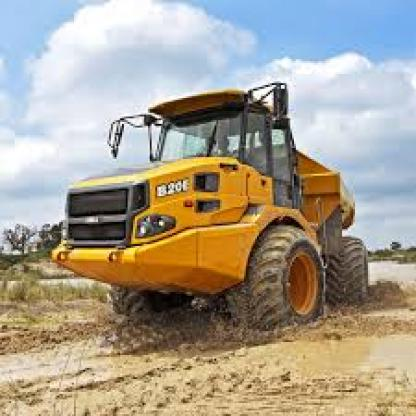dump_truck: (59, 85, 390, 342)
